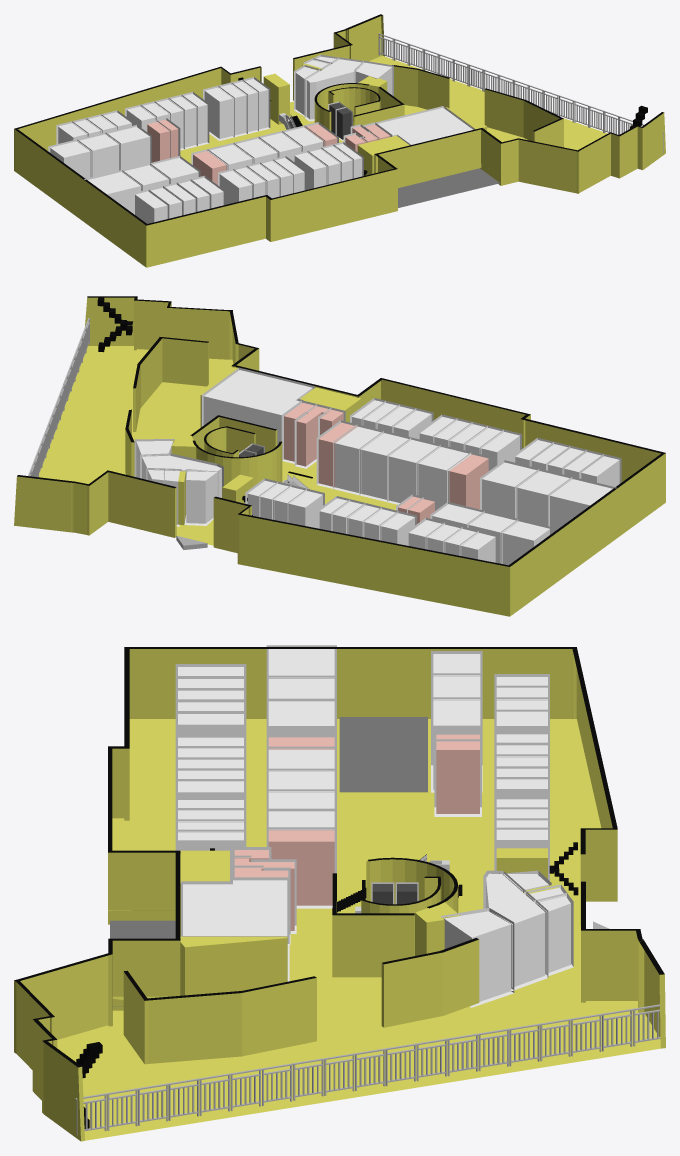
The picture shows the model from 3 angles, top to bottom: view 1: azimuth 30°, elevation 25°; view 2: azimuth 150°, elevation 25°; view 3: azimuth 270°, elevation 25°; orthographic projection. The views are drawn at different scales.
Visible parts, largest first — view 1: object, object_9_2.002, room_9_5_34, room_9_5_31, object_9_2.001, object_9_2, room_9_5_29, room_9_5_38, room_9_5_37, room_9_5_10, room_9_5_39, room_9_5_36 (+35 smaller); view 2: object, room_9_5_34, room_9_5_41, room_9_5_44, room_9_5_43, room_9_5_45, room_9_5_40, room_9_5_42, room_9_5_39, トイレ_9_5_7, room_9_5_33, room_9_5_36 (+27 smaller); view 3: object, object_9_5_1, room_9_5_34, object_9_2, object_9_2.001, object_9_2.002, room_9_5_29, トイレ_9_5_8, room_9_5_30, トイレ_9_5_1, room_9_5_41, room_9_5_39 (+24 smaller).
Boxes of the visible parts, bbox=[...] form: object: bbox=[14, 14, 665, 267]; object_9_2.002: bbox=[378, 33, 483, 91]; room_9_5_34: bbox=[378, 108, 472, 145]; room_9_5_31: bbox=[398, 168, 499, 207]; object_9_2.001: bbox=[454, 60, 558, 115]; object_9_2: bbox=[559, 95, 664, 153]; room_9_5_29: bbox=[306, 59, 363, 119]; room_9_5_38: bbox=[106, 126, 150, 170]; room_9_5_37: bbox=[77, 134, 118, 177]; room_9_5_10: bbox=[204, 87, 232, 138]; room_9_5_39: bbox=[88, 172, 140, 213]; room_9_5_36: bbox=[50, 141, 90, 178]; object: bbox=[14, 296, 665, 616]; room_9_5_34: bbox=[203, 370, 312, 444]; room_9_5_41: bbox=[482, 462, 538, 518]; room_9_5_44: bbox=[361, 433, 410, 499]; room_9_5_43: bbox=[389, 440, 440, 502]; room_9_5_45: bbox=[335, 426, 383, 493]; room_9_5_40: bbox=[517, 471, 571, 526]; room_9_5_42: bbox=[418, 447, 471, 509]; room_9_5_39: bbox=[550, 479, 612, 532]; トイレ_9_5_7: bbox=[449, 454, 488, 509]; room_9_5_33: bbox=[186, 471, 217, 523]; room_9_5_36: bbox=[502, 521, 549, 565]; object: bbox=[14, 647, 665, 1141]; object_9_5_1: bbox=[339, 717, 427, 792]; room_9_5_34: bbox=[183, 880, 287, 936]; object_9_2: bbox=[75, 1063, 292, 1135]; object_9_2.001: bbox=[292, 1029, 509, 1100]; object_9_2.002: bbox=[448, 1004, 660, 1071]; room_9_5_29: bbox=[486, 873, 545, 987]; トイレ_9_5_8: bbox=[268, 830, 334, 905]; room_9_5_30: bbox=[444, 911, 511, 1001]; トイレ_9_5_1: bbox=[436, 742, 479, 813]; room_9_5_41: bbox=[268, 701, 334, 734]; room_9_5_39: bbox=[268, 649, 334, 678].
Bounding box in the file's own units: 2.43 × 0.2418 × 1.58.
